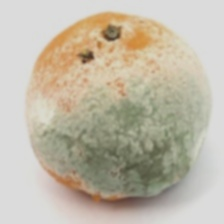orange: (4, 28, 197, 208)
